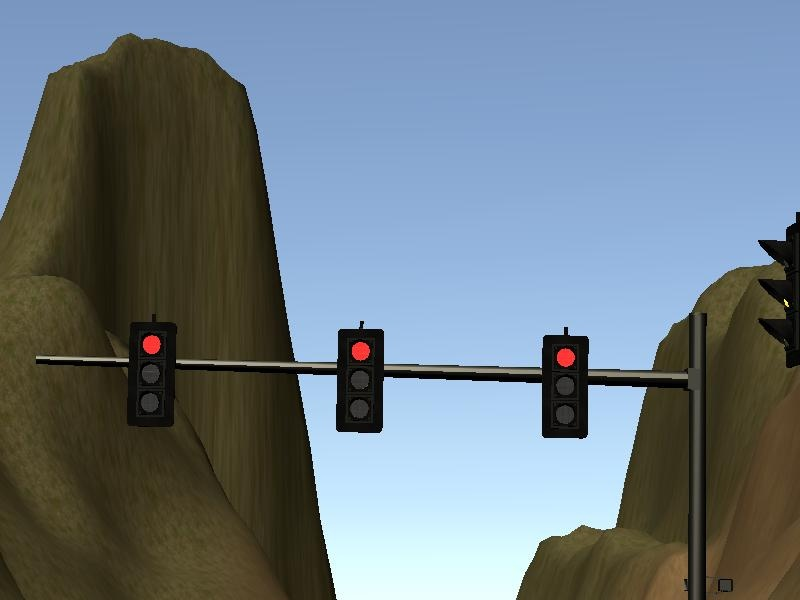red: (332, 322, 387, 438), (538, 330, 593, 443), (125, 317, 178, 433)
